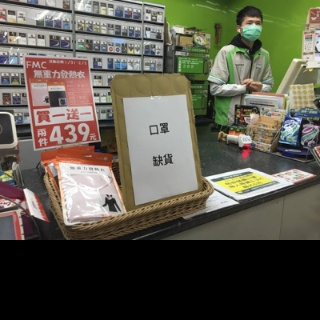with_mask: (242, 19, 262, 42)
